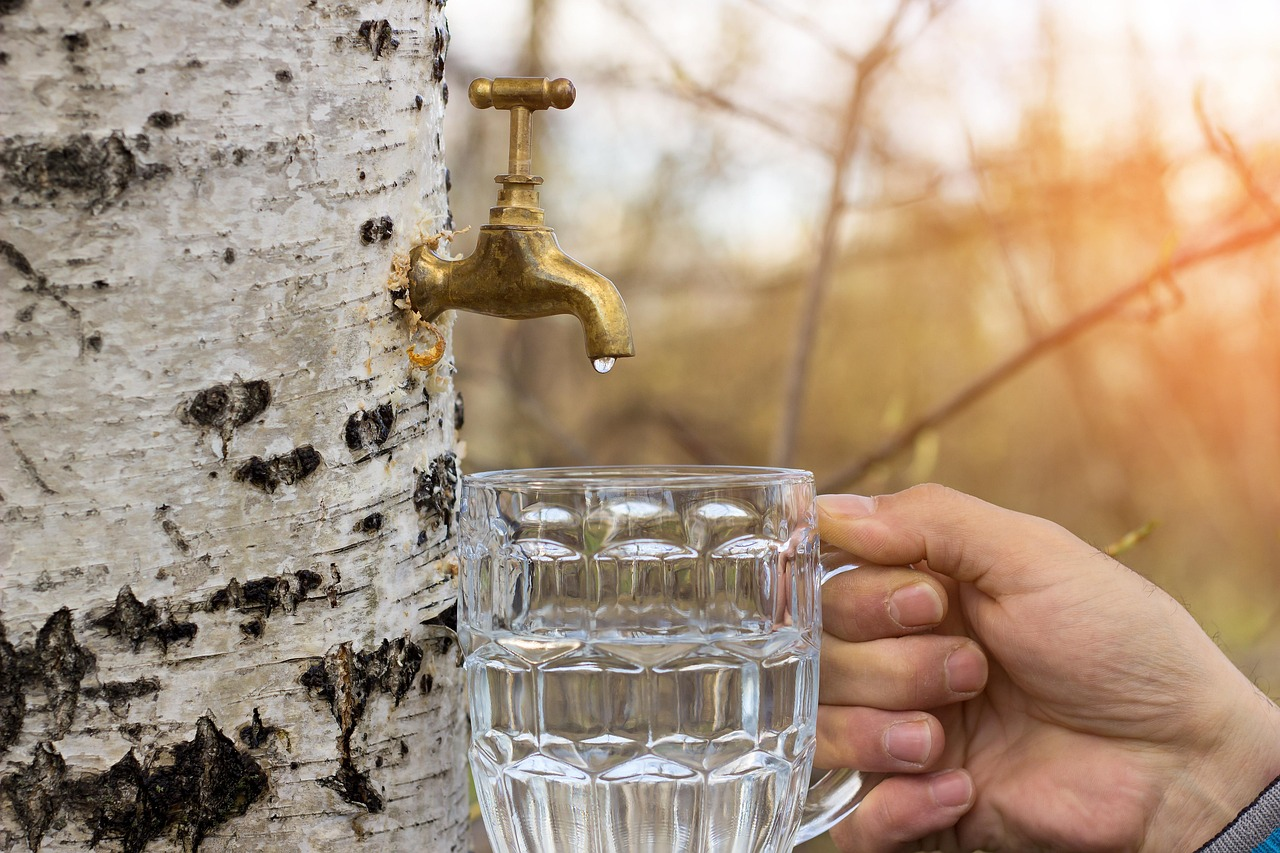mug: (382, 398, 945, 853)
